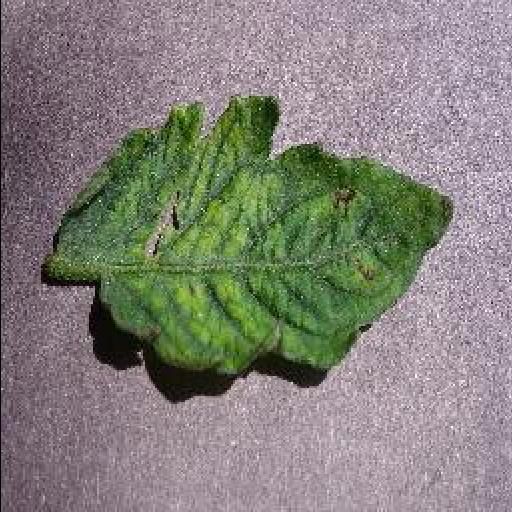Mosaic Virus: (52, 92, 458, 378)
